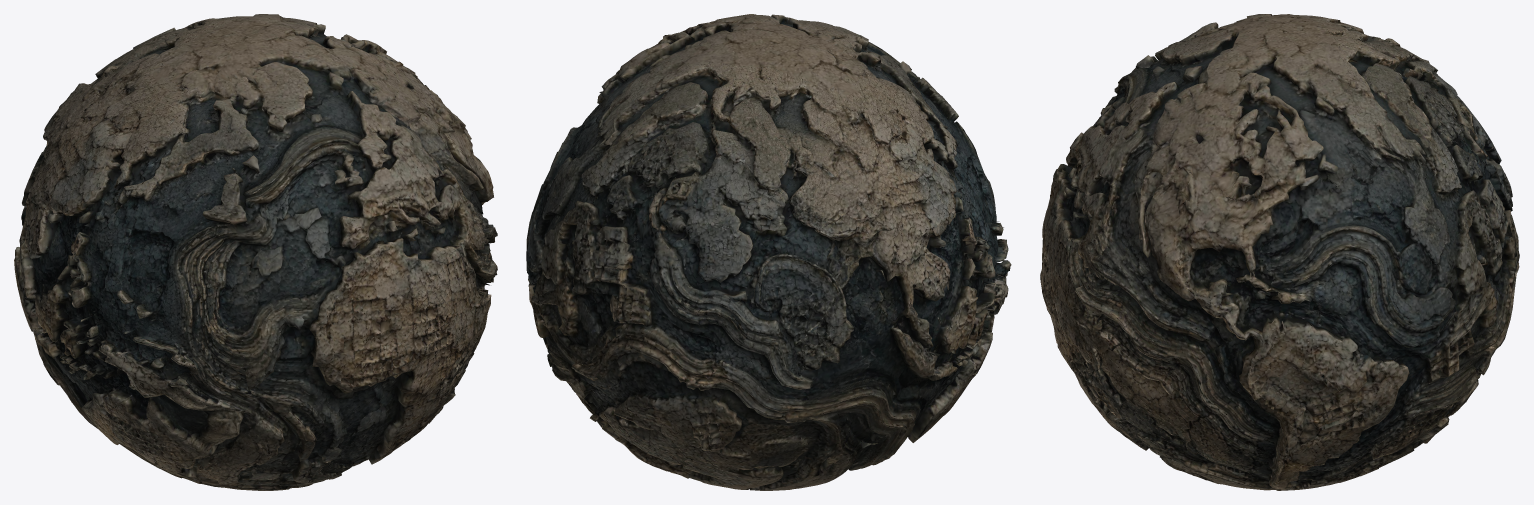
File: earth-optimized.glb
The picture shows the model from 3 angles, left to right: view 1: azimuth 30°, elevation 25°; view 2: azimuth 150°, elevation 25°; view 3: azimuth 270°, elevation 25°; orthographic projection.
Visible parts, largest first — view 1: tripo_node_96c729cf-fb82-4b63-a3b4-9c3c91145d1b; view 2: tripo_node_96c729cf-fb82-4b63-a3b4-9c3c91145d1b; view 3: tripo_node_96c729cf-fb82-4b63-a3b4-9c3c91145d1b.
Boxes of the visible parts, box(x1,y1,x2,y2) form: tripo_node_96c729cf-fb82-4b63-a3b4-9c3c91145d1b: box(14, 14, 497, 490); tripo_node_96c729cf-fb82-4b63-a3b4-9c3c91145d1b: box(526, 14, 1011, 490); tripo_node_96c729cf-fb82-4b63-a3b4-9c3c91145d1b: box(1040, 14, 1519, 490).
Size of the model in its own units: 0.9796 by 0.978 by 0.9787.
Materials: 1 (1 with a texture image).
